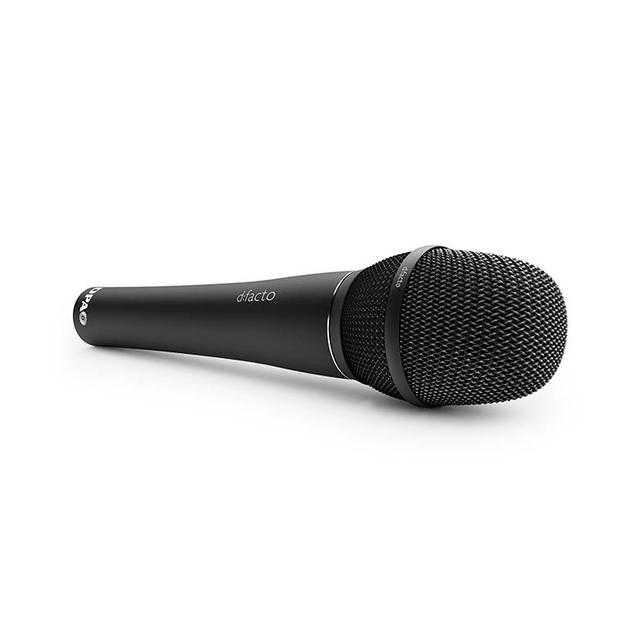microphone: (75, 246, 565, 406)
